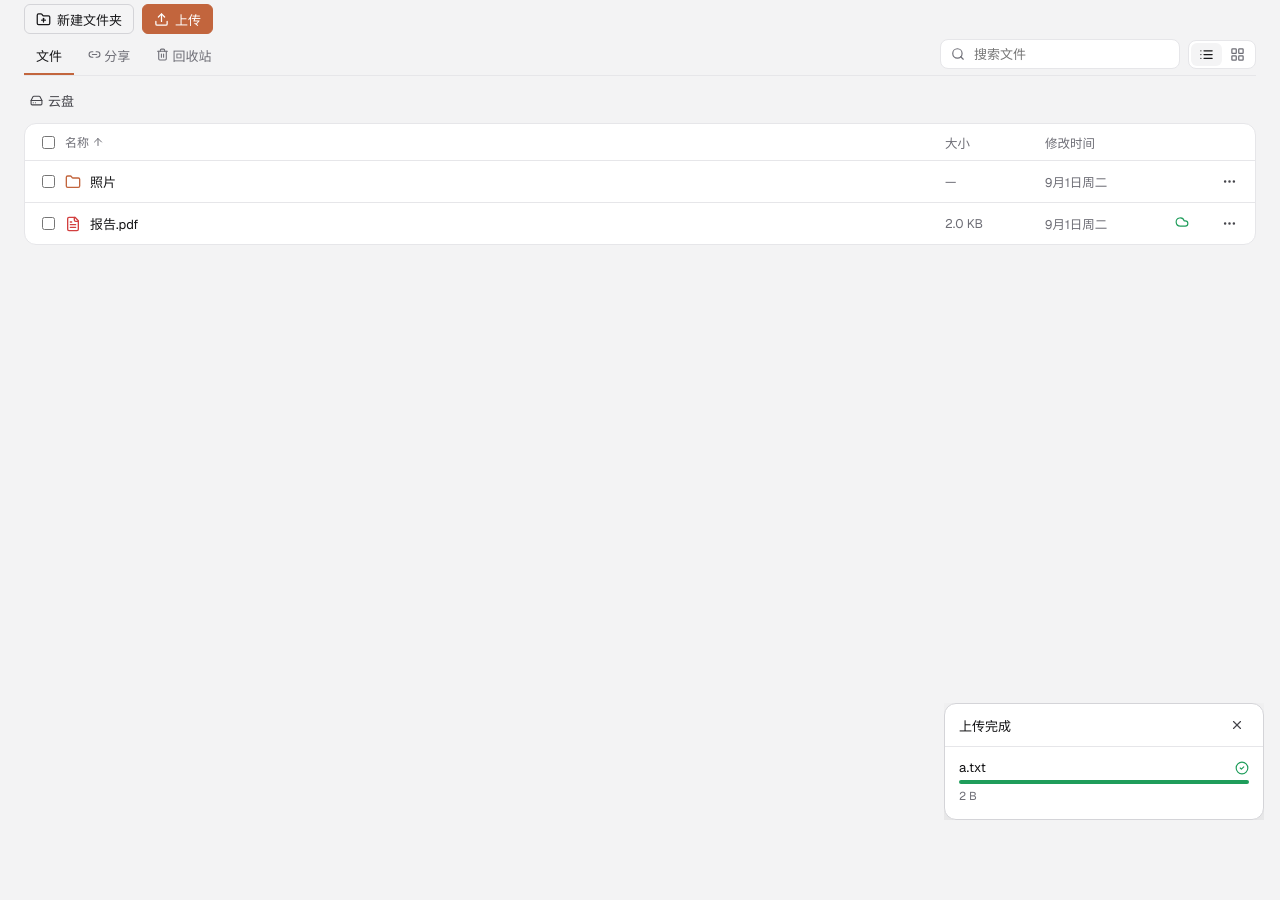
DrivePage › copies selected items and asks what to do with same names
Click the checkbox named "选择 报告.pdf": {"x": 48, "y": 224} [42, 217, 54, 230]
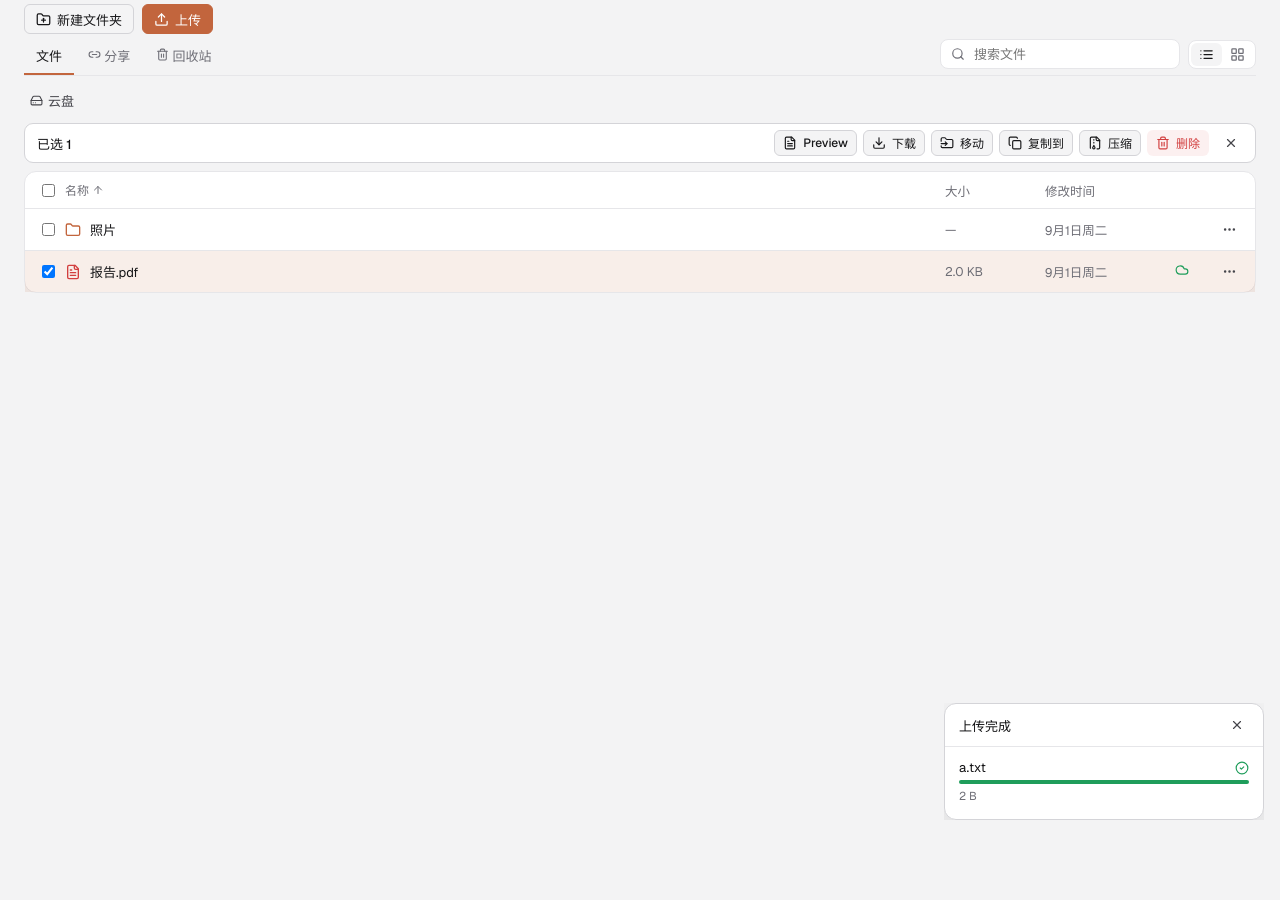
Click the button "复制到": {"x": 1036, "y": 143} [999, 130, 1073, 156]
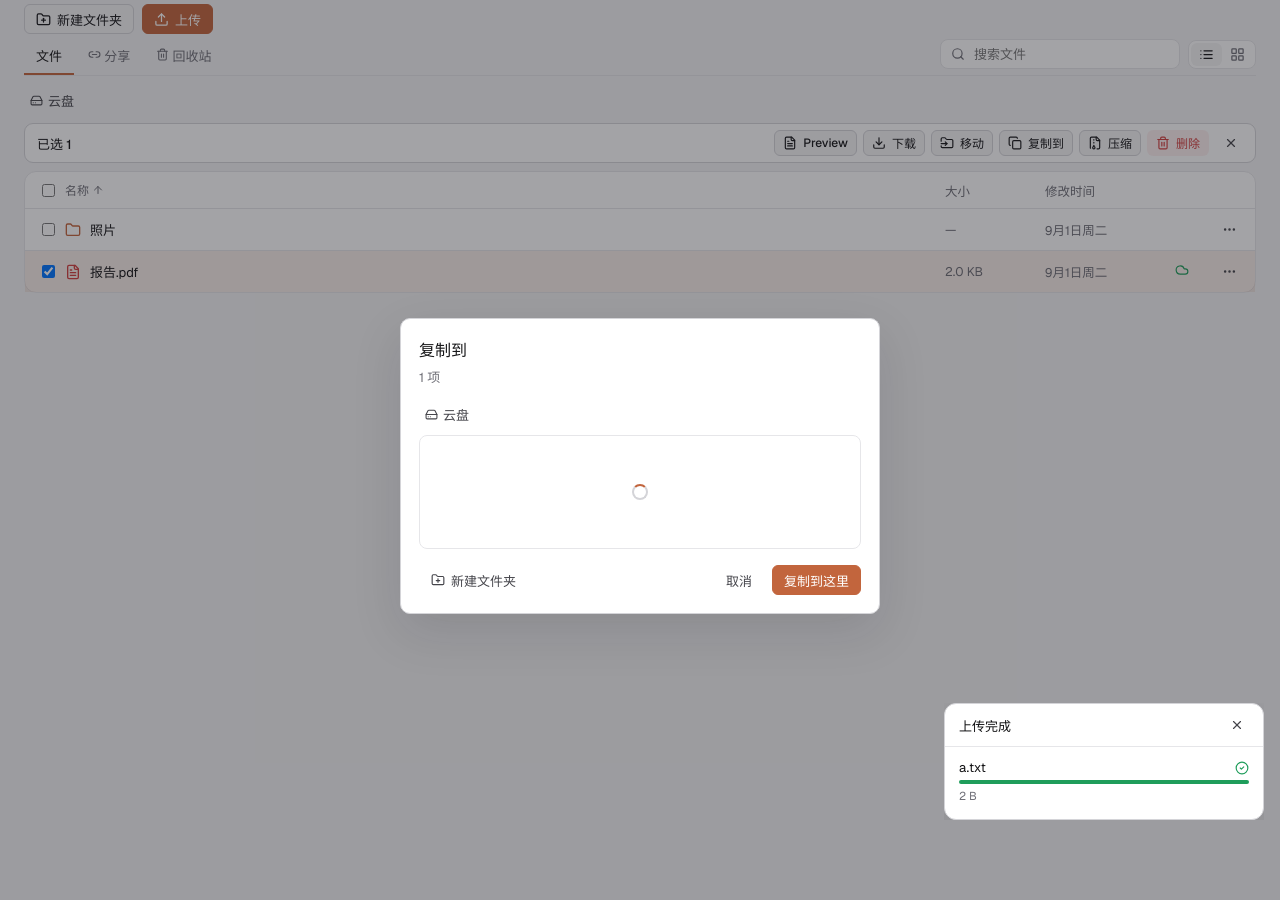
# 根目录里已经有“报告.pdf”，复制到根目录会重名。
Click the button "复制到这里": {"x": 816, "y": 580} [772, 565, 861, 595]
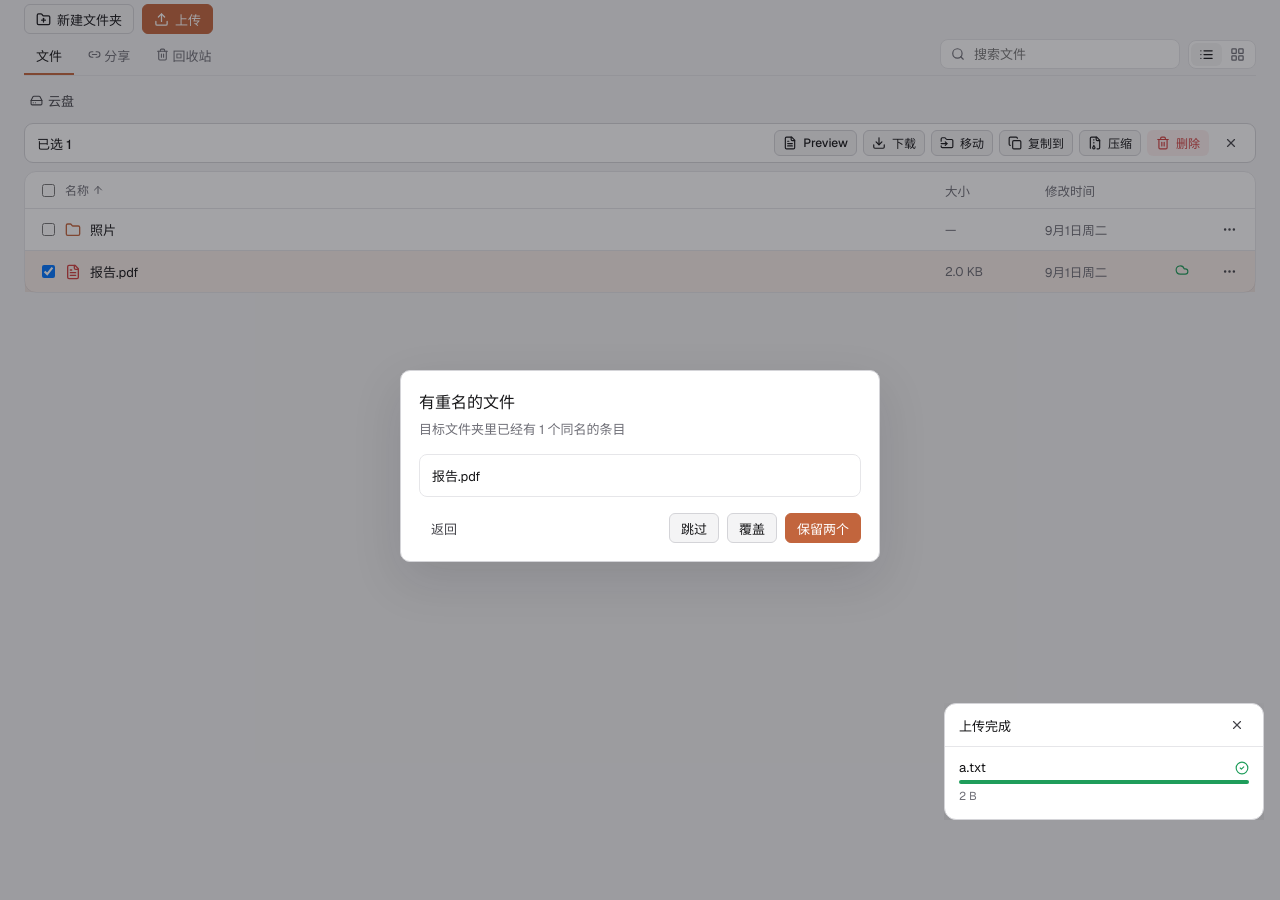
Now the heading "有重名的文件" is shown, box [419, 392, 515, 413]
Click the button "保留两个": {"x": 823, "y": 528} [785, 513, 861, 543]
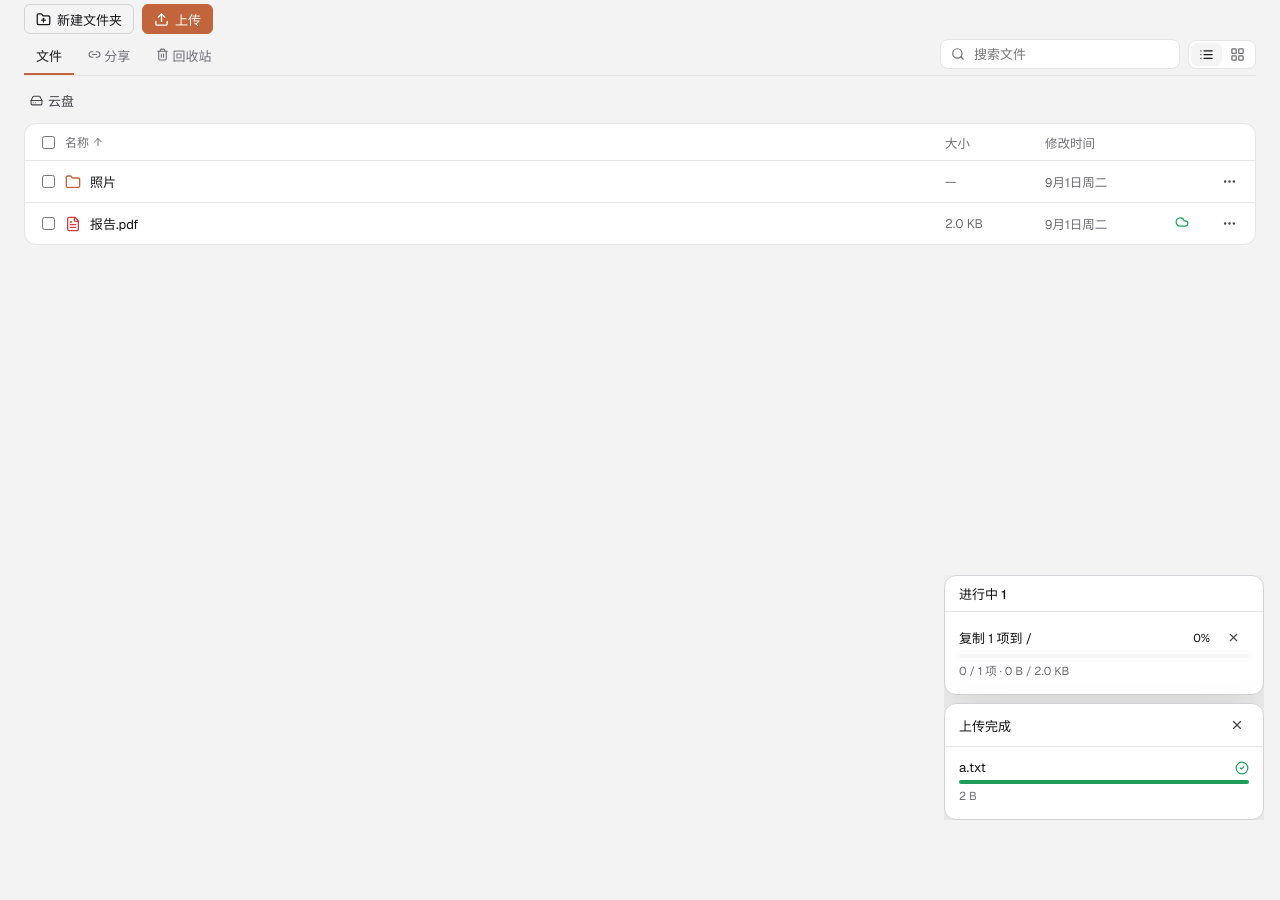
Now the text "复制 1 项到 /" is shown, box [959, 630, 1032, 646]
